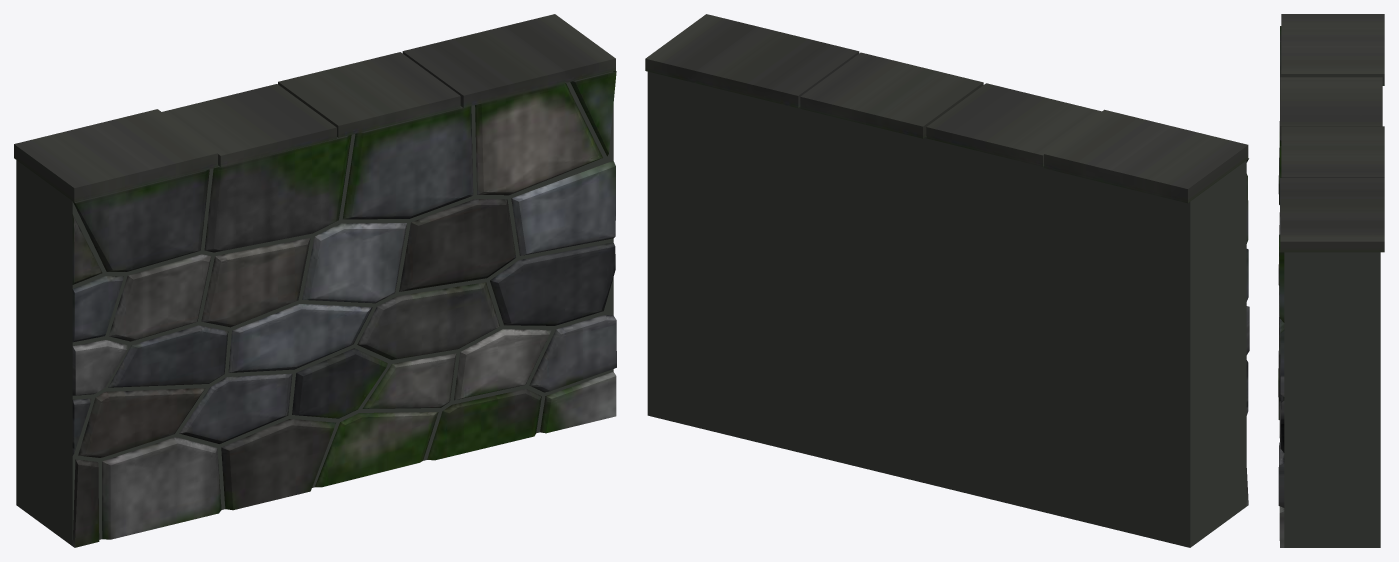
Rendered from stone-retaining-wall-b.glb.
3 renders of one model, left to right at view 1: azimuth 30°, elevation 25°; view 2: azimuth 150°, elevation 25°; view 3: azimuth 270°, elevation 25°, orthographic. The views are drawn at different scales.
Visible parts, largest first — view 1: stone-retaining-wall-b; view 2: stone-retaining-wall-b; view 3: stone-retaining-wall-b.
Boxes of the visible parts, <box> form: stone-retaining-wall-b: <box>14,14,616,547</box>; stone-retaining-wall-b: <box>645,14,1249,547</box>; stone-retaining-wall-b: <box>1278,14,1384,547</box>.
Bounding box in the file's own units: 4 × 2.54 × 0.796.
2 materials, 1 textured.
